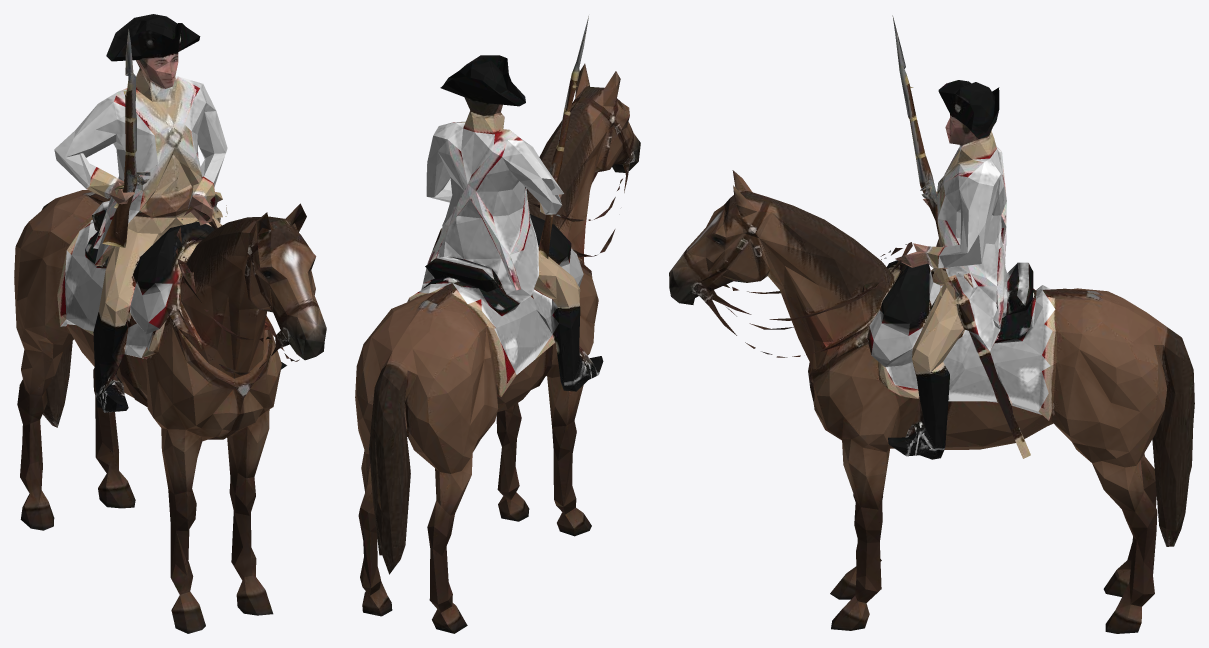
Rendered from realistic-cc0.116a16859014.dragoon.glb.
3 renders of one model, left to right at view 1: azimuth 30°, elevation 25°; view 2: azimuth 150°, elevation 25°; view 3: azimuth 270°, elevation 25°, orthographic. The views are drawn at different scales.
Visible parts, largest first — view 1: dragoon; view 2: dragoon; view 3: dragoon.
Part boxes in pixels (bbox=[...]): dragoon: bbox=[14, 14, 326, 633]; dragoon: bbox=[355, 16, 640, 633]; dragoon: bbox=[669, 15, 1194, 633].
Size of the model in its own units: 0.8437 by 2.69 by 2.27.
3 materials, 3 textured.
